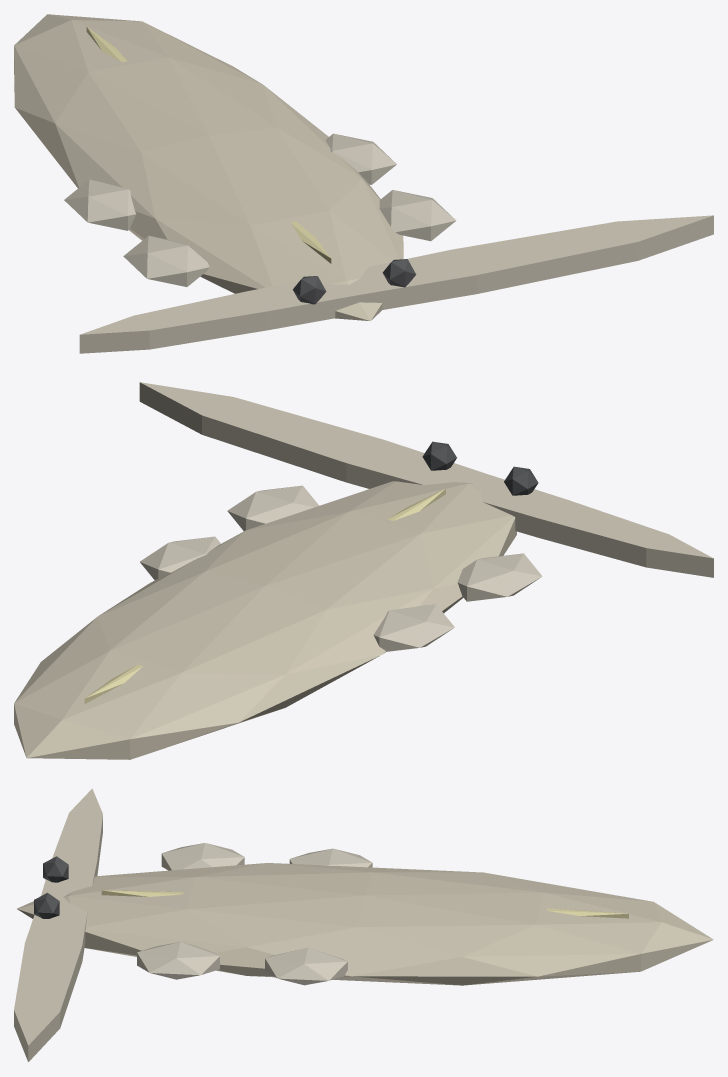
File: bipalium-kewense.glb
3 renders of one model, top to bottom at view 1: azimuth 30°, elevation 25°; view 2: azimuth 150°, elevation 25°; view 3: azimuth 270°, elevation 25°, orthographic. The views are drawn at different scales.
Visible parts, largest first — view 1: body, headfan, eye-r, eye-l; view 2: body, headfan, eye-r, eye-l; view 3: body, headfan, eye-r, eye-l.
Boxes of the visible parts, x1,y1,x2,y2 form: body: [14, 14, 456, 320]; headfan: [79, 215, 713, 353]; eye-r: [293, 276, 326, 304]; eye-l: [382, 259, 416, 287]; body: [14, 481, 542, 759]; headfan: [139, 382, 713, 577]; eye-r: [504, 466, 538, 495]; eye-l: [422, 441, 456, 470]; body: [17, 843, 713, 985]; headfan: [14, 788, 102, 1061]; eye-r: [43, 856, 68, 882]; eye-l: [34, 892, 59, 918].
Size of the model in its own units: 0.5267 by 0.0585 by 0.6053.
